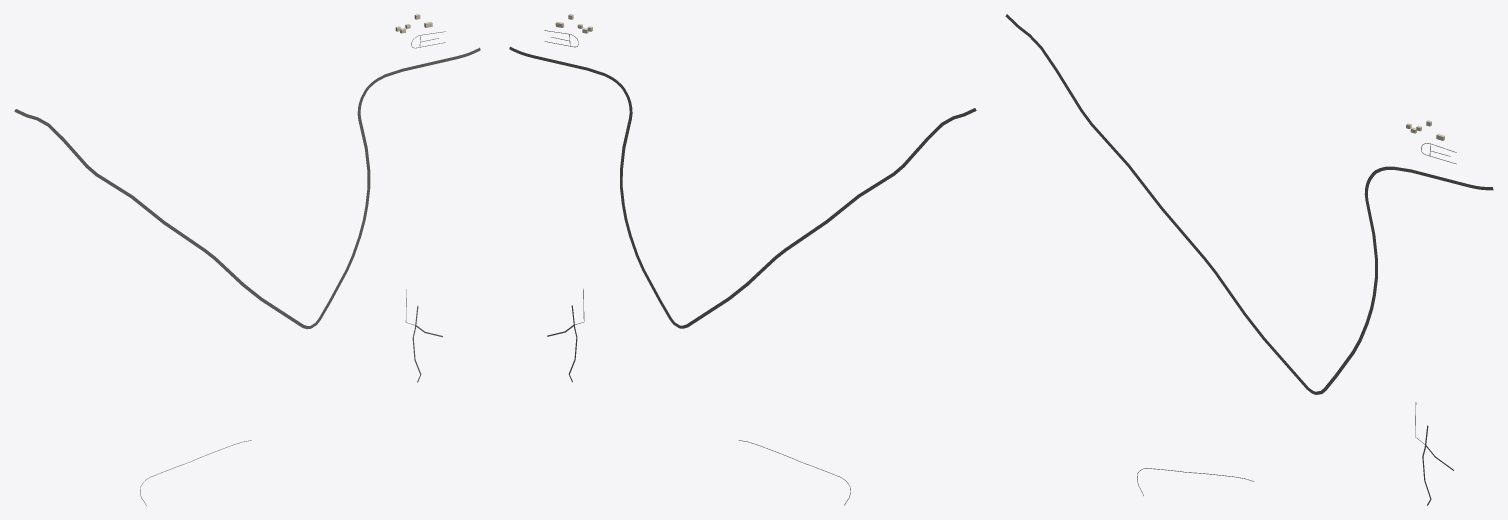
File: historic-palestine-10_30_3515_3247.glb
3 renders of one model, left to right at view 1: azimuth 30°, elevation 25°; view 2: azimuth 150°, elevation 25°; view 3: azimuth 330°, elevation 25°, orthographic. The views are drawn at different scales.
Parts seen in each view (by area): view 1: Road 6523; view 2: Road 6523; view 3: Road 6523.
Boxes of the visible parts, x1,y1,x2,y2 form: Road 6523: (14,47,480,329); Road 6523: (509,46,976,328); Road 6523: (1005,14,1493,394).
Size of the model in its own units: 1267 by 1114 by 8.7.
